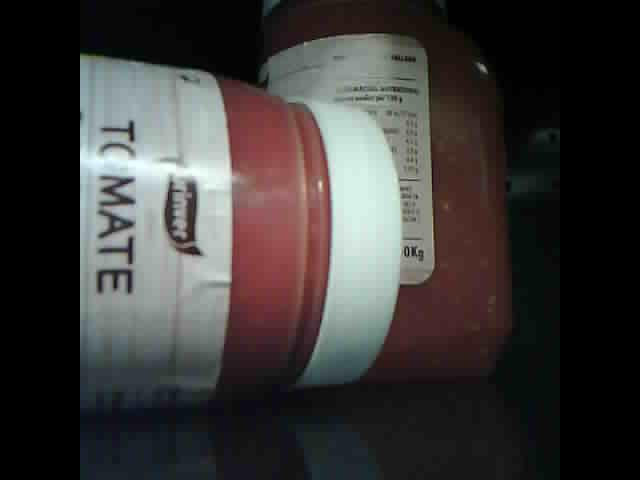tomate: (82, 49, 400, 411), (259, 4, 511, 383)
